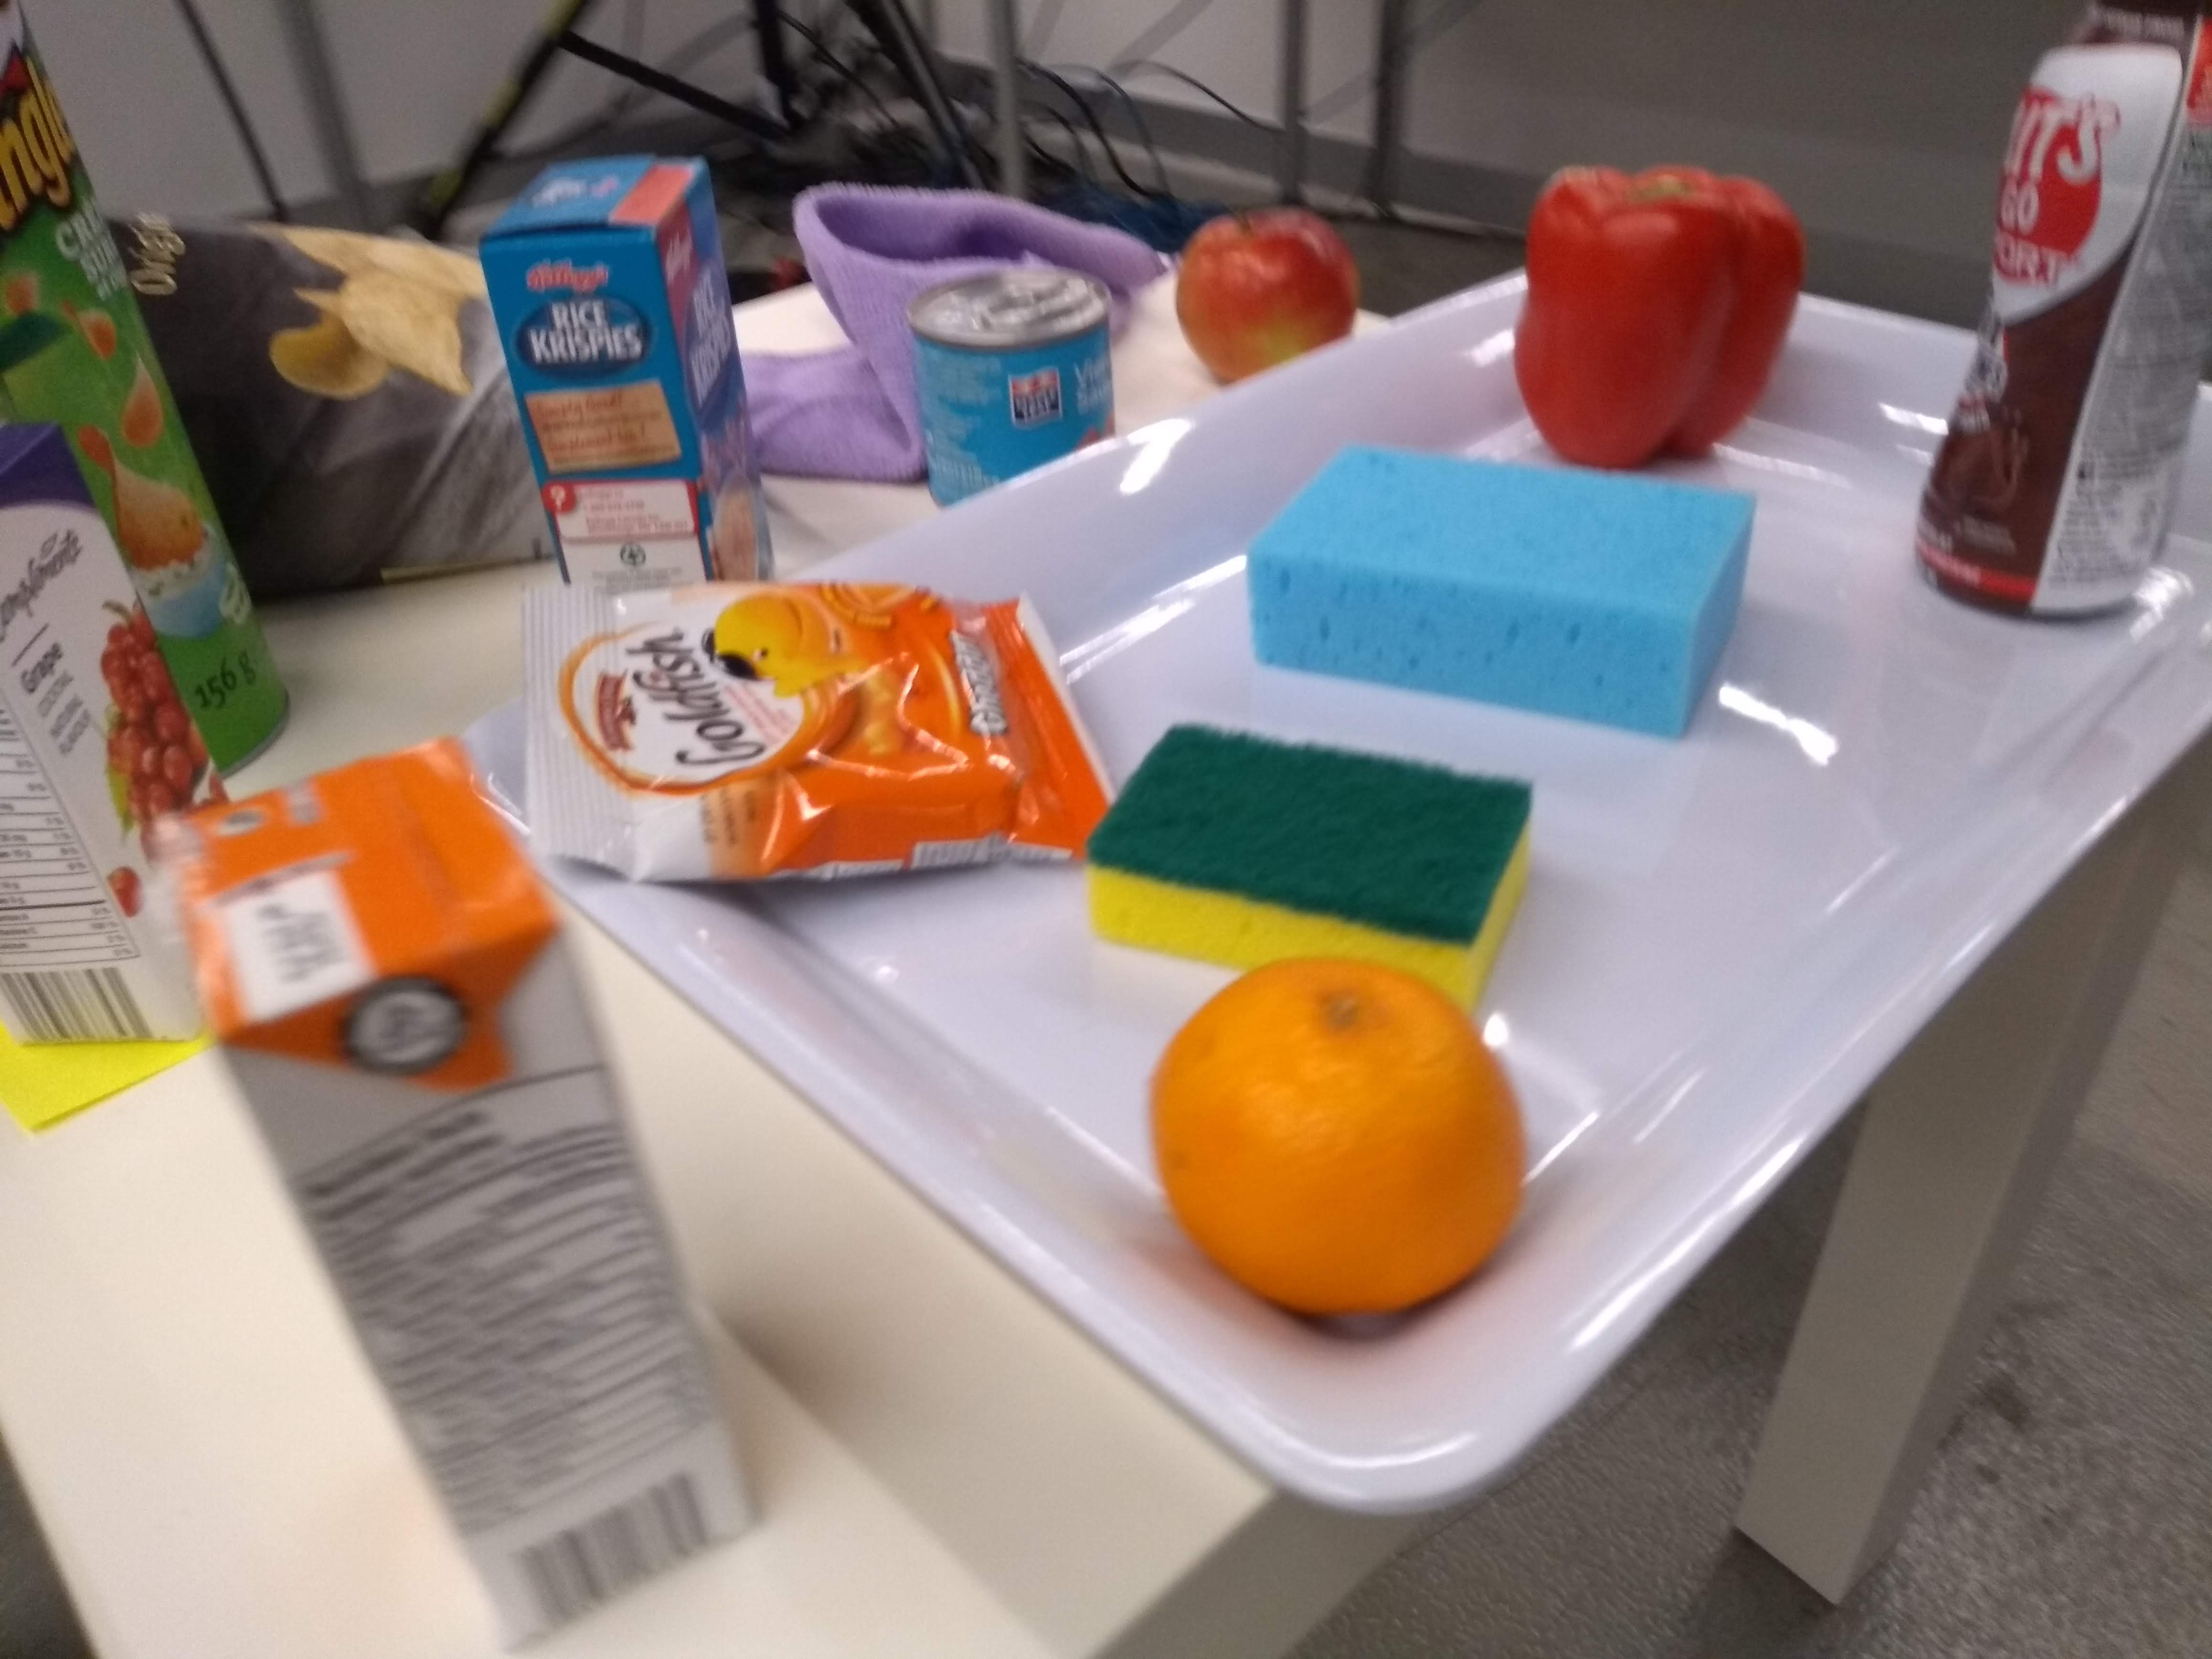apple: (1170, 202, 1371, 401)
cereal: (475, 148, 784, 605)
chocolate_drink: (1902, 0, 2212, 638)
crackers: (512, 579, 1123, 889)
orange: (1139, 936, 1531, 1326)
orange_juice: (179, 725, 779, 1659)
paprika: (1498, 153, 1813, 476)
sausages: (906, 265, 1118, 477)
scrubby: (1080, 709, 1548, 995)
sponge_opl: (1240, 436, 1770, 748)
